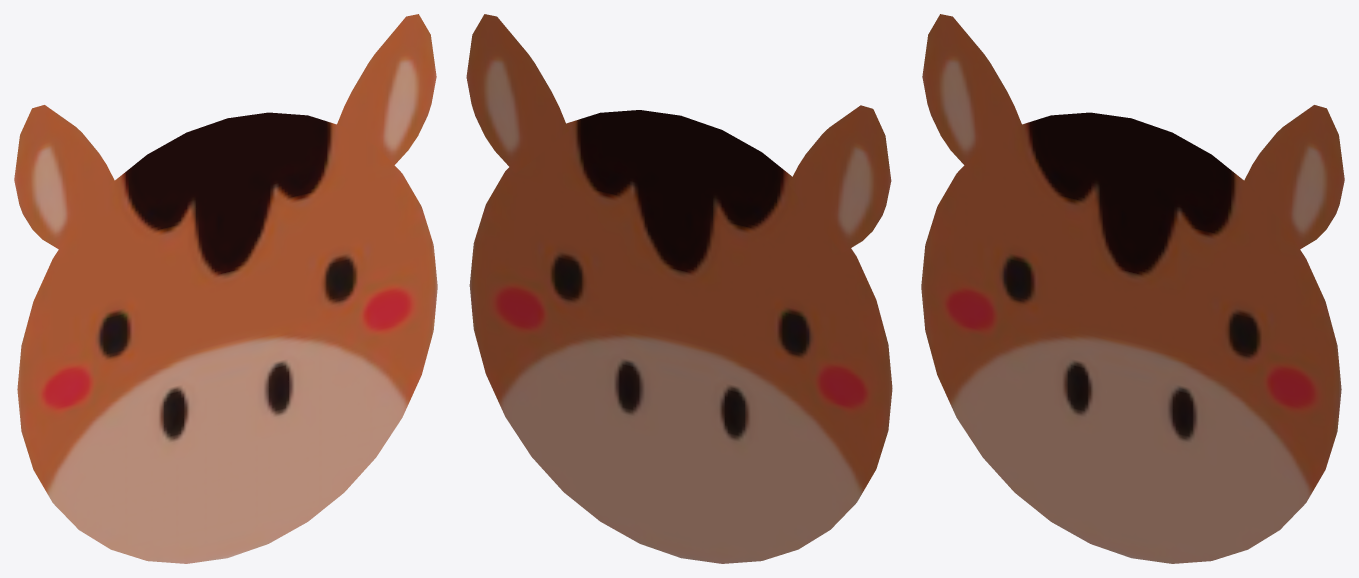
Rendered from Horse.fbx.
3 views of the same model, side by side, from view 1: azimuth 30°, elevation 25°; view 2: azimuth 150°, elevation 25°; view 3: azimuth 330°, elevation 25° (orthographic).
Visible parts, largest first — view 1: Horse; view 2: Horse; view 3: Horse.
Part boxes in pixels (x1=…): Horse: x1=14, y1=14, x2=437, y2=563; Horse: x1=466, y1=14, x2=892, y2=563; Horse: x1=921, y1=14, x2=1344, y2=563.
Size of the model in its own units: 201 by 225 by 1.79.
